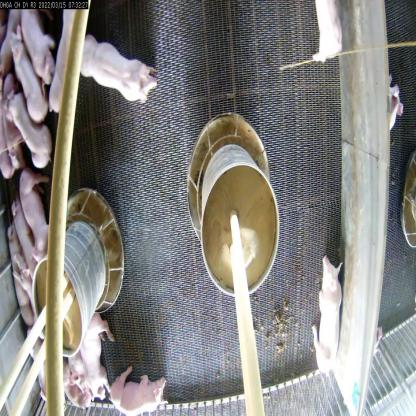Pig: (81, 31, 159, 108), (41, 3, 82, 108), (310, 257, 342, 378), (5, 37, 47, 127), (106, 365, 176, 415), (10, 90, 54, 165), (18, 167, 56, 251), (5, 206, 40, 291), (81, 313, 110, 405)
